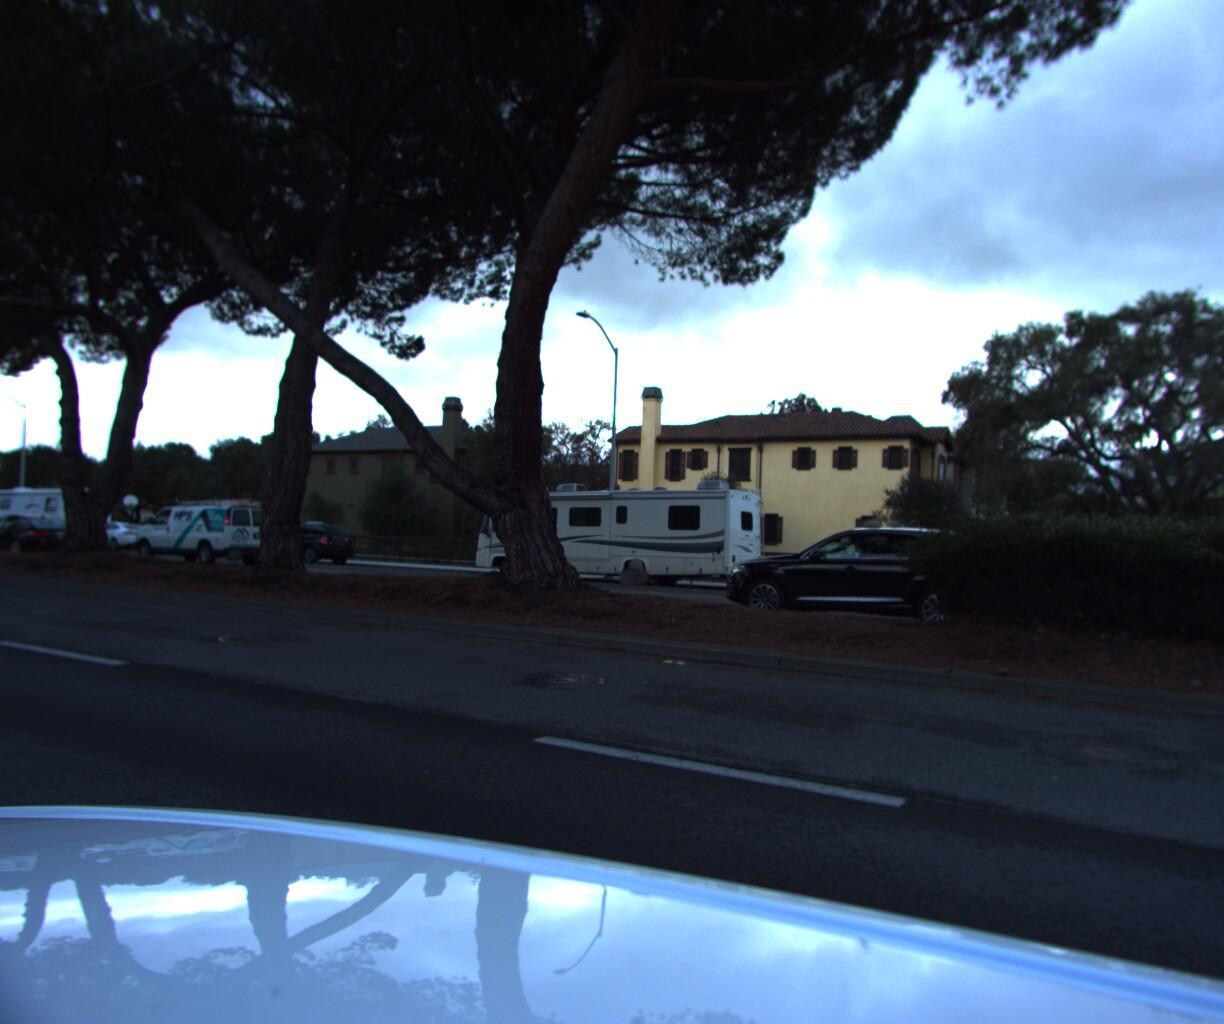car: (721, 520, 1028, 637), (131, 499, 282, 568), (250, 522, 360, 571), (0, 519, 98, 565), (69, 523, 160, 557)
other_vehicle: (462, 472, 773, 596), (0, 486, 121, 554)
